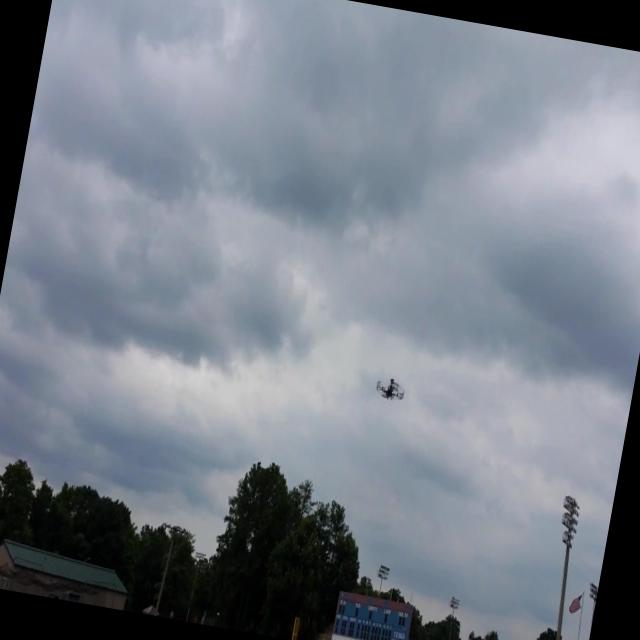drone: (372, 372, 408, 406)
